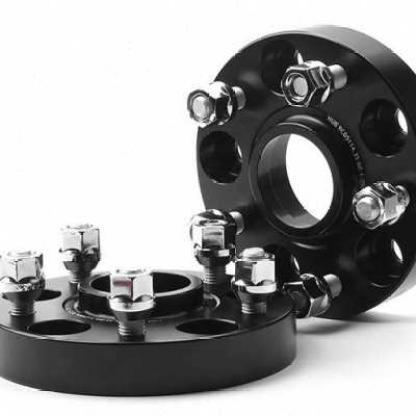FOD: (175, 16, 415, 324), (0, 268, 300, 400)
